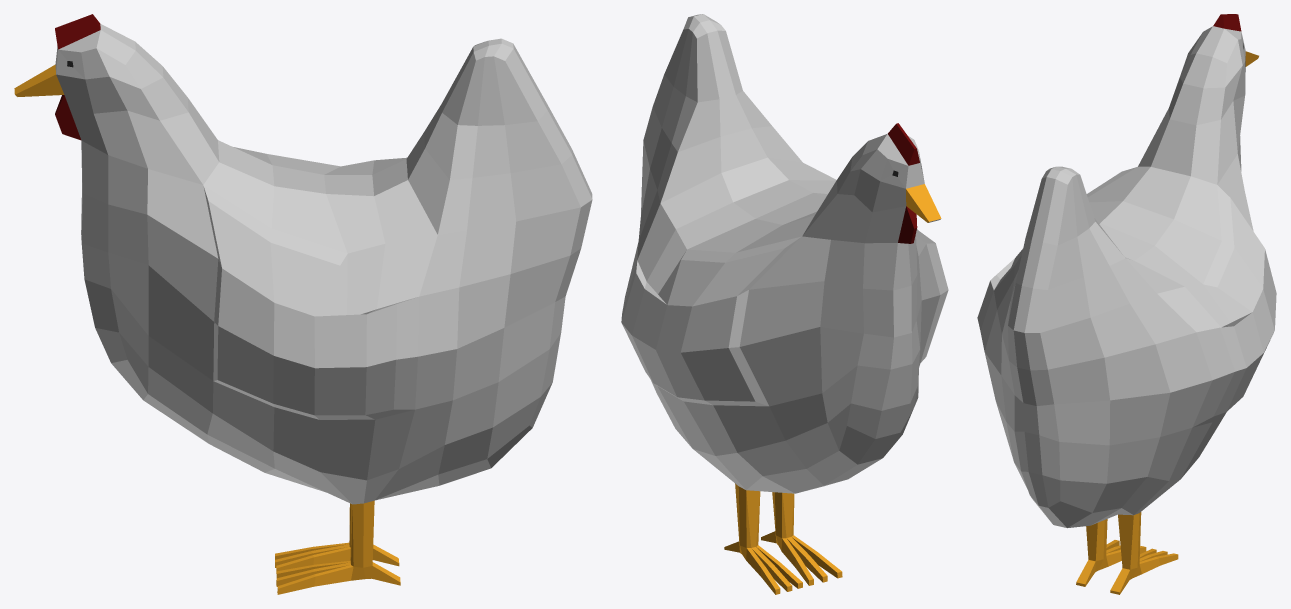
Rendered from chicken.obj.
3 views of the same model, side by side, from view 1: azimuth 30°, elevation 25°; view 2: azimuth 150°, elevation 25°; view 3: azimuth 270°, elevation 25° (orthographic). The views are drawn at different scales.
Visible parts, largest first — view 1: Chicken; view 2: Chicken; view 3: Chicken.
Boxes of the visible parts, x1,y1,x2,y2 form: Chicken: (14, 14, 592, 594); Chicken: (621, 14, 948, 594); Chicken: (977, 14, 1276, 594).
Bounding box in the file's own units: 0.3314 × 0.4005 × 0.2264.
